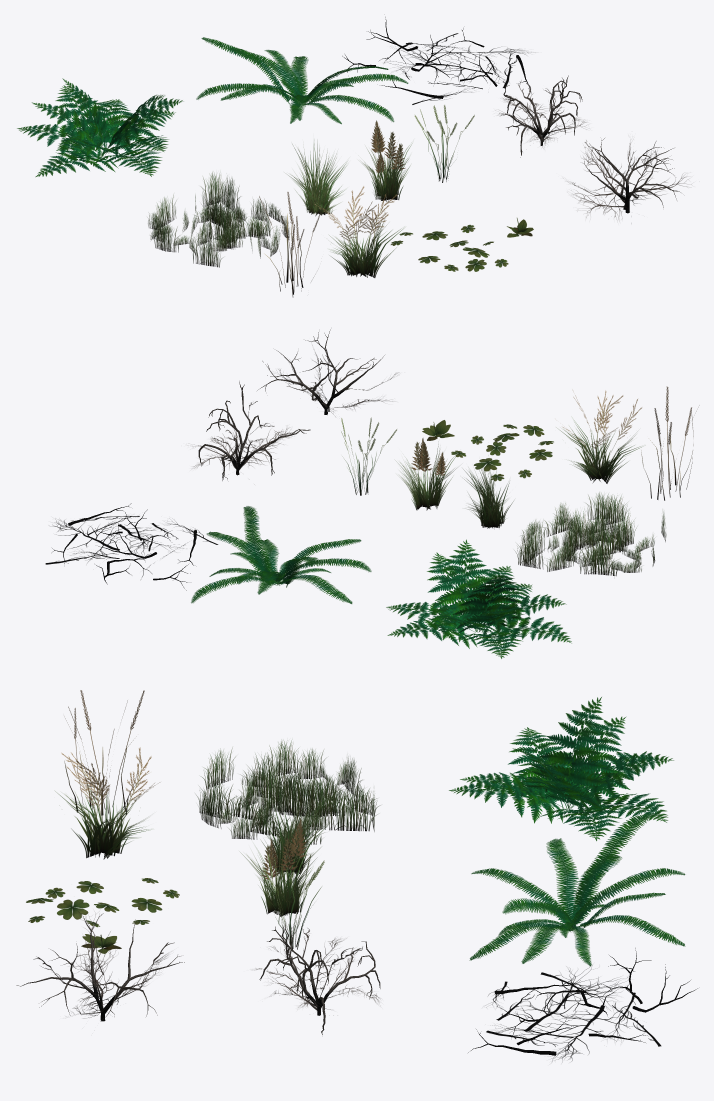
Rendered from some_foliage.glb.
3 views of the same model, one above another, from view 1: azimuth 30°, elevation 25°; view 2: azimuth 150°, elevation 25°; view 3: azimuth 270°, elevation 25° (orthographic). The views are drawn at different scales.
Parts seen in each view (by area): view 1: SM_Fern_01, SM_Grass_01, SM_Fern_02, SM_Grass_06, SM_DeadBush_03, SM_DeadBush_01, SM_Grass_03, SM_Grass_02, SM_DeadBush_02, SM_Grass_07, SM_Grass_05, SM_Grass_04; view 2: SM_Fern_01, SM_Grass_01, SM_Fern_02, SM_DeadBush_03, SM_Grass_06, SM_DeadBush_02, SM_Grass_03, SM_DeadBush_01, SM_Grass_07, SM_Grass_02, SM_Grass_05, SM_Grass_04; view 3: SM_Fern_01, SM_Grass_01, SM_Fern_02, SM_DeadBush_03, SM_Grass_06, SM_Grass_03, SM_DeadBush_02, SM_DeadBush_01, SM_Grass_07, SM_Grass_02, SM_Grass_05, SM_Grass_04.
Boxes of the visible parts, x1,y1,x2,y2 form: SM_Fern_01: (17,78,183,176); SM_Grass_01: (148,172,289,267); SM_Fern_02: (196,37,408,124); SM_Grass_06: (315,186,403,277); SM_DeadBush_03: (342,17,531,104); SM_DeadBush_01: (567,138,691,218); SM_Grass_03: (363,120,412,201); SM_Grass_02: (288,143,346,216); SM_DeadBush_02: (499,75,586,157); SM_Grass_07: (391,225,508,271); SM_Grass_05: (259,192,323,297); SM_Grass_04: (414,105,474,182); SM_Fern_01: (386,539,571,658); SM_Grass_01: (515,492,666,575); SM_Fern_02: (191,506,371,603); SM_DeadBush_03: (45,503,218,590); SM_Grass_06: (556,390,641,483); SM_DeadBush_02: (193,381,310,480); SM_Grass_03: (396,438,456,510); SM_DeadBush_01: (257,329,397,414); SM_Grass_07: (451,424,553,481); SM_Grass_02: (464,463,513,528); SM_Grass_05: (641,386,696,500); SM_Grass_04: (341,417,396,495); SM_Fern_01: (449,697,673,840); SM_Grass_01: (196,740,380,846); SM_Fern_02: (469,813,685,966); SM_DeadBush_03: (468,948,697,1061); SM_Grass_06: (55,747,159,859); SM_Grass_03: (240,818,316,916); SM_DeadBush_02: (256,921,380,1034); SM_DeadBush_01: (16,912,184,1021); SM_Grass_07: (26,878,179,927); SM_Grass_02: (260,793,329,875); SM_Grass_05: (64,690,148,815); SM_Grass_04: (262,854,324,949).
Size of the model in its own units: 812 by 156 by 735.
Materials: 3 (3 with a texture image).
